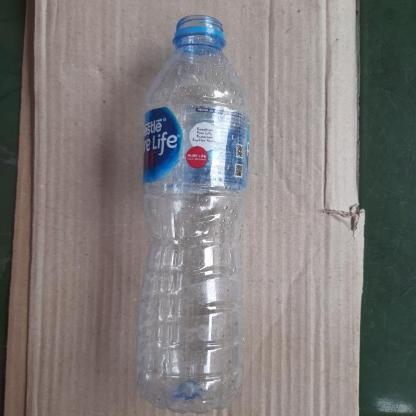Plastic Bottle: (134, 16, 250, 414)
